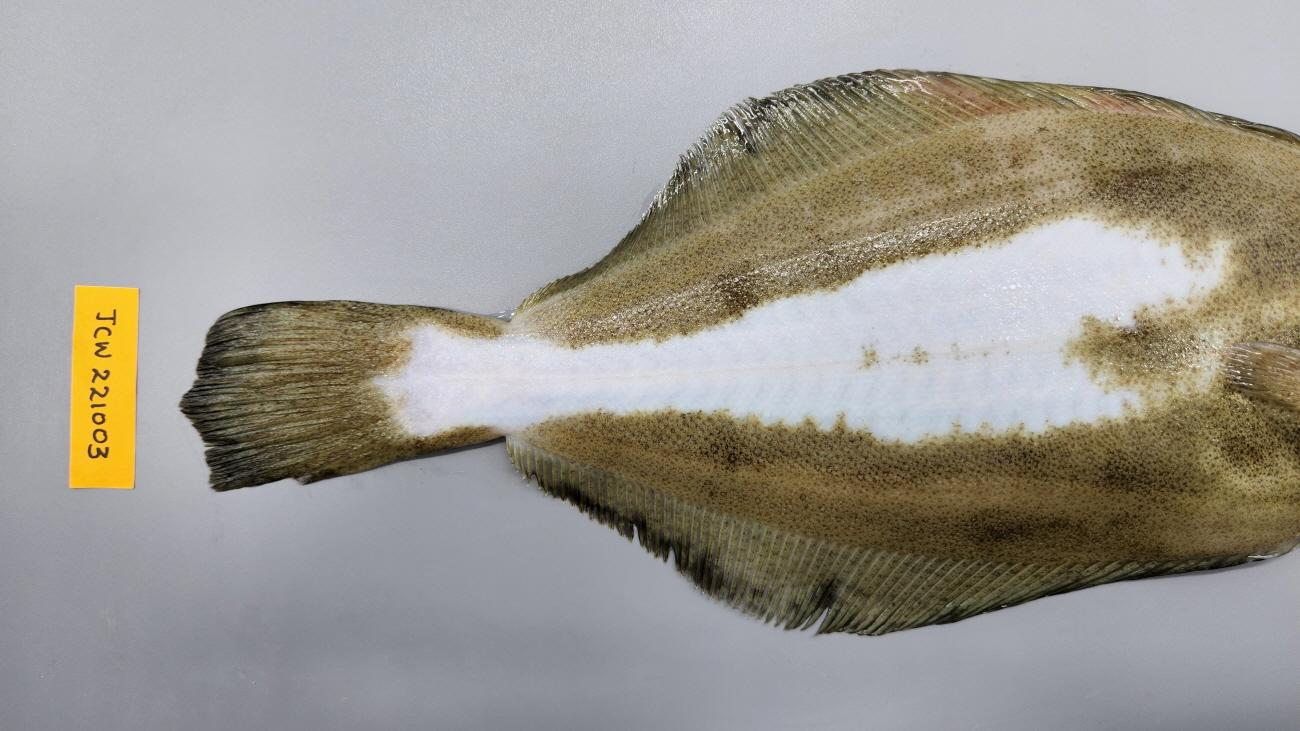POOUN: (177, 68, 1300, 640)
